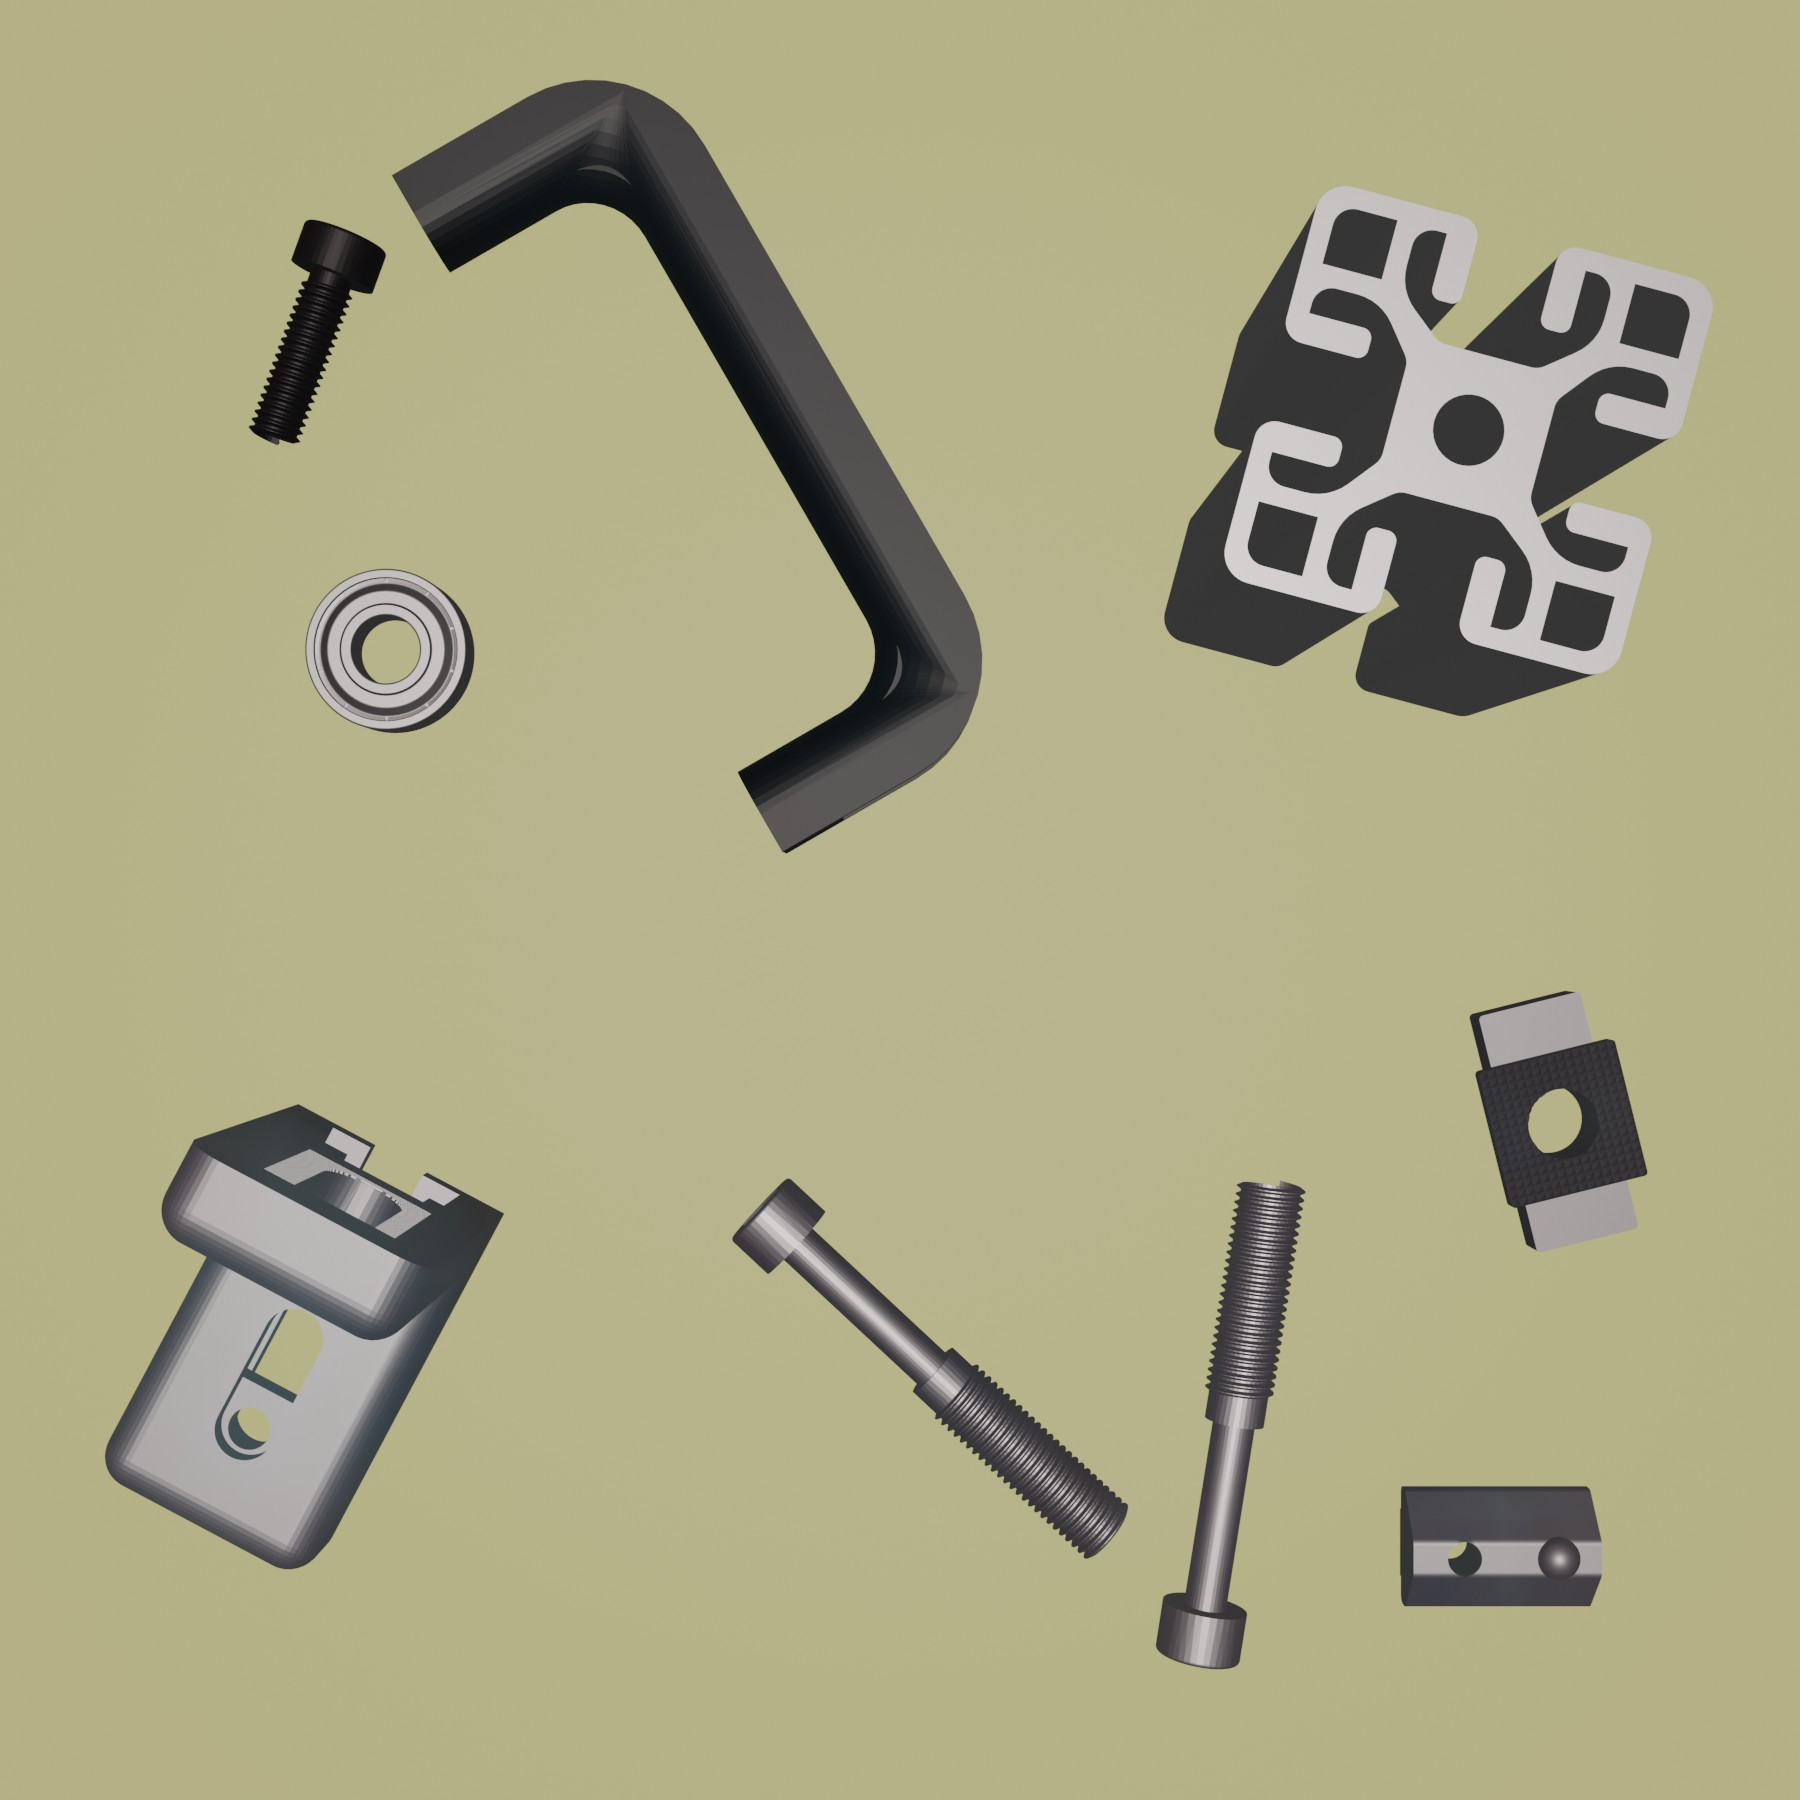Aluminium Extension: (1159, 181, 1716, 719)
Ball Bearing: (302, 565, 476, 734)
Multiwinkel: (101, 1101, 504, 1573)
Pull Handle: (386, 74, 986, 857)
Shoulder Socket Head Cap Screw: (729, 1174, 1131, 1563), (1155, 1174, 1309, 1671)
Socket Head Cap Screw: (247, 219, 391, 448)
T Nut Square: (1469, 986, 1648, 1254)
T Spring Nut: (1396, 1480, 1605, 1610)
